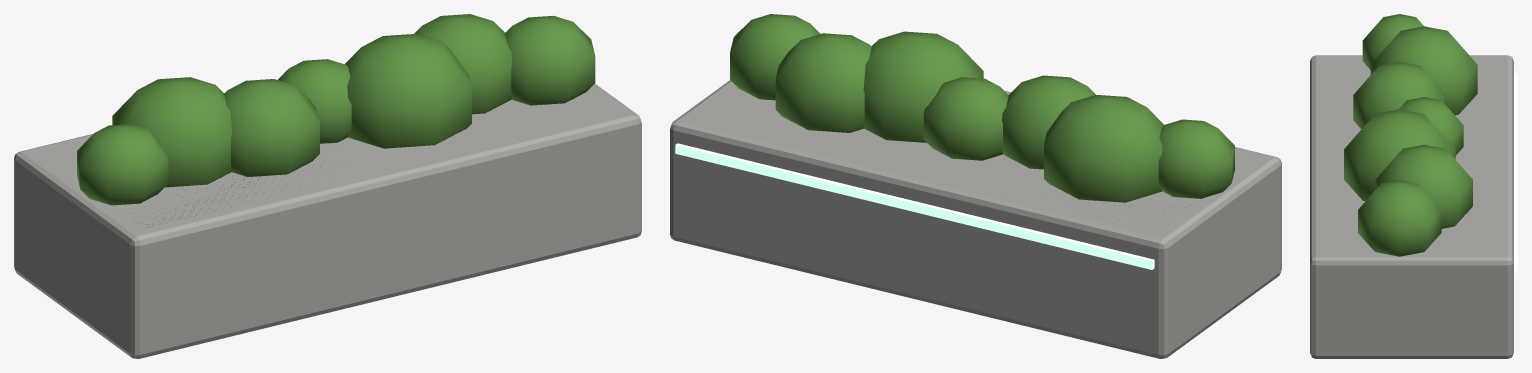
Rendered from planter.glb.
3 views of the same model, side by side, from view 1: azimuth 30°, elevation 25°; view 2: azimuth 150°, elevation 25°; view 3: azimuth 270°, elevation 25° (orthographic). The views are drawn at different scales.
Parts seen in each view (by area): view 1: planter; view 2: planter; view 3: planter.
Boxes of the visible parts, x1=… form: planter: x1=14, y1=14, x2=641, y2=358; planter: x1=670, y1=14, x2=1281, y2=358; planter: x1=1310, y1=14, x2=1517, y2=358.
Bounding box in the file's own units: 2.4 × 0.919 × 1.02.
